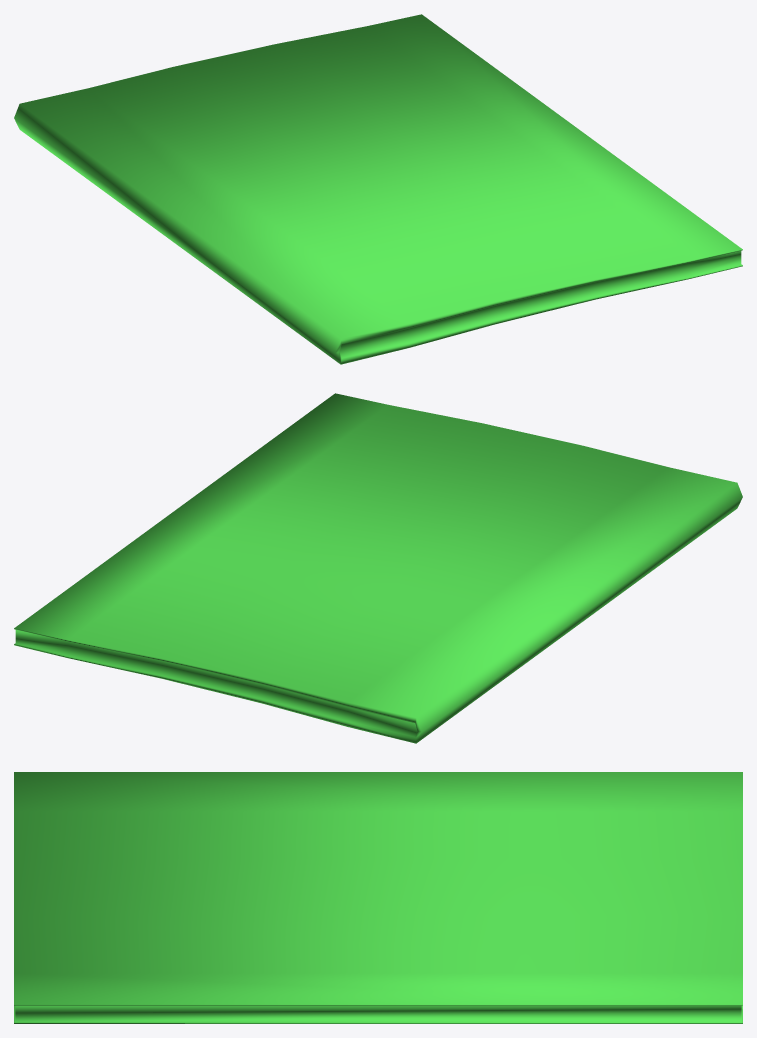
The model's file is f_LivreB.fbx.
The picture shows the model from 3 angles, top to bottom: view 1: azimuth 30°, elevation 25°; view 2: azimuth 150°, elevation 25°; view 3: azimuth 270°, elevation 25°; orthographic projection. The views are drawn at different scales.
Visible parts, largest first — view 1: LivreB_LD; view 2: LivreB_LD; view 3: LivreB_LD.
Part boxes in pixels (bbox=[...]): LivreB_LD: bbox=[14, 14, 742, 364]; LivreB_LD: bbox=[14, 393, 742, 743]; LivreB_LD: bbox=[14, 772, 742, 1023].
Size of the model in its own units: 20.07 by 1.22 by 27.37.
